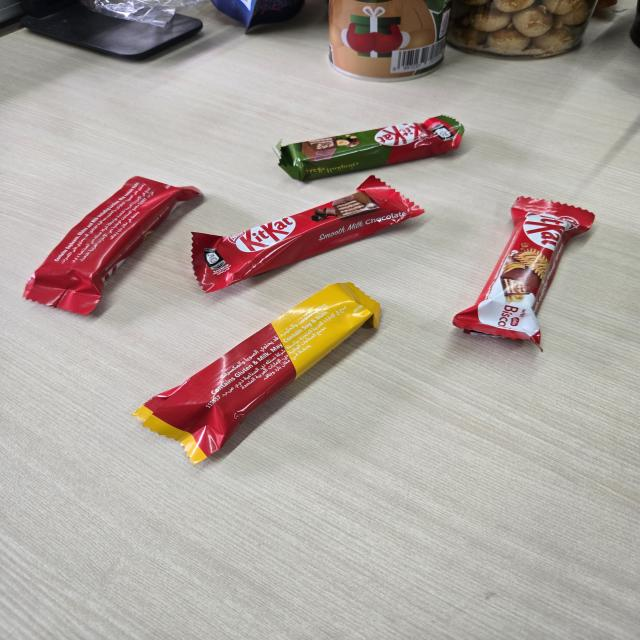chocolate-bar: (131, 280, 386, 470), (188, 172, 430, 298), (18, 171, 204, 324), (453, 192, 604, 354), (271, 114, 471, 182)
